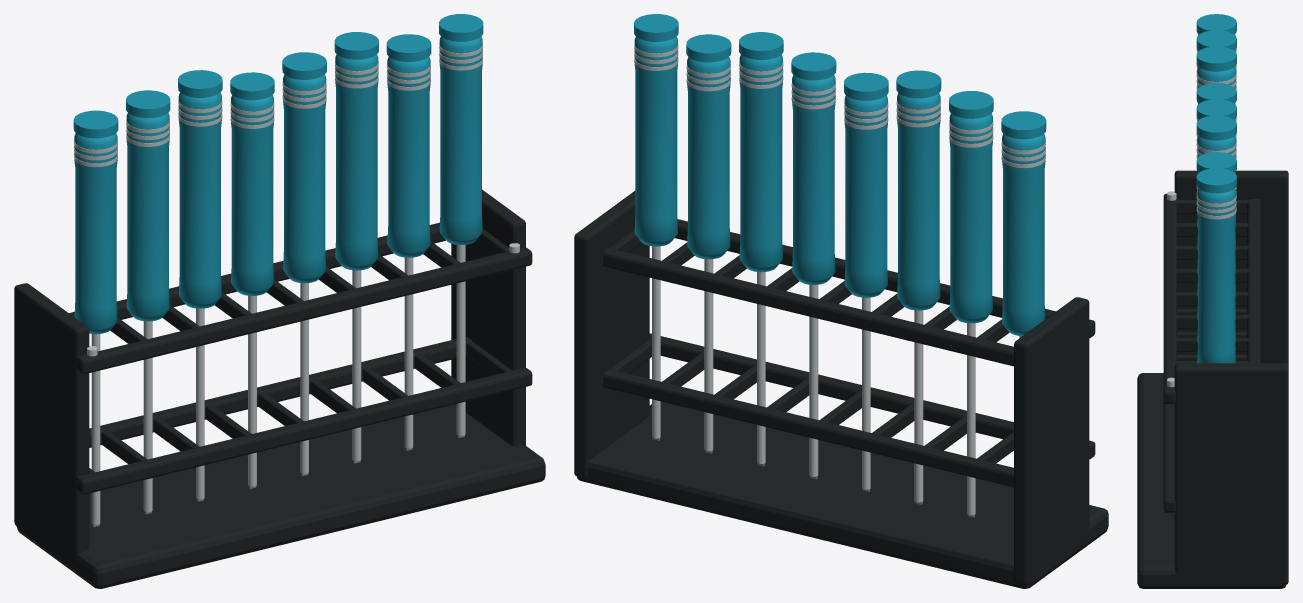
File: lod1_source.glb
3 renders of one model, left to right at view 1: azimuth 30°, elevation 25°; view 2: azimuth 150°, elevation 25°; view 3: azimuth 270°, elevation 25°, orthographic. The views are drawn at different scales.
Visible parts, largest first — view 1: Black rack base, Rack upright, Rack upright.001, Rack horizontal holder rail, Rack horizontal holder rail.002, Blue anodised grip 05, Blue anodised grip 02, Blue anodised grip 07, Blue anodised grip 01, Blue anodised grip 04, Blue anodised grip 03, Blue anodised grip 06 (+27 smaller); view 2: Black rack base, Rack upright, Rack upright.001, Blue anodised grip 05, Blue anodised grip 02, Rack horizontal holder rail.001, Rack horizontal holder rail.003, Blue anodised grip 01, Blue anodised grip 07, Blue anodised grip 04, Blue anodised grip 03, Blue anodised grip 06 (+18 smaller); view 3: Rack upright.001, Rack upright, Black rack base, Blue anodised grip 07, Rack horizontal holder rail.002, Rack horizontal holder rail.003, Rack horizontal holder rail, Blue rotating end cap 05, Blue rotating end cap 02, Blue rotating end cap 07, Blue rotating end cap 00, Blue rotating end cap 03 (+15 smaller).
Boxes of the visible parts, box(x1,y1,x2,y2) form: Black rack base: box(16, 404, 545, 588); Rack upright: box(14, 283, 89, 558); Rack upright.001: box(451, 189, 525, 446); Rack horizontal holder rail: box(76, 367, 532, 494); Rack horizontal holder rail.002: box(76, 247, 532, 374); Blue anodised grip 05: box(335, 54, 378, 270); Blue anodised grip 02: box(178, 92, 221, 308); Blue anodised grip 07: box(439, 36, 482, 244); Blue anodised grip 01: box(126, 113, 169, 321); Blue anodised grip 04: box(283, 75, 326, 283); Blue anodised grip 03: box(231, 95, 273, 295); Blue anodised grip 06: box(387, 57, 430, 257); Black rack base: box(577, 401, 1108, 588); Rack upright: box(1014, 297, 1089, 585); Rack upright.001: box(574, 191, 649, 478); Blue anodised grip 05: box(739, 55, 782, 272); Blue anodised grip 02: box(897, 93, 940, 310); Rack horizontal holder rail.001: box(603, 369, 1047, 490); Rack horizontal holder rail.003: box(603, 248, 1048, 368); Blue anodised grip 01: box(949, 113, 992, 323); Blue anodised grip 07: box(634, 37, 677, 246); Blue anodised grip 04: box(792, 75, 835, 284); Blue anodised grip 03: box(844, 95, 887, 297); Blue anodised grip 06: box(687, 57, 730, 259); Rack upright.001: box(1174, 363, 1288, 584); Rack upright: box(1174, 170, 1288, 365); Black rack base: box(1137, 373, 1286, 588); Blue anodised grip 07: box(1197, 188, 1236, 363); Rack horizontal holder rail.002: box(1163, 193, 1176, 403); Rack horizontal holder rail.003: box(1247, 199, 1260, 402); Rack horizontal holder rail: box(1163, 402, 1175, 512); Blue rotating end cap 05: box(1196, 115, 1236, 140); Blue rotating end cap 02: box(1196, 46, 1236, 71); Blue rotating end cap 07: box(1196, 168, 1236, 193); Blue rotating end cap 00: box(1196, 14, 1236, 34); Blue rotating end cap 03: box(1196, 83, 1236, 103).
Size of the model in its own units: 0.314 by 0.296 by 0.101.
